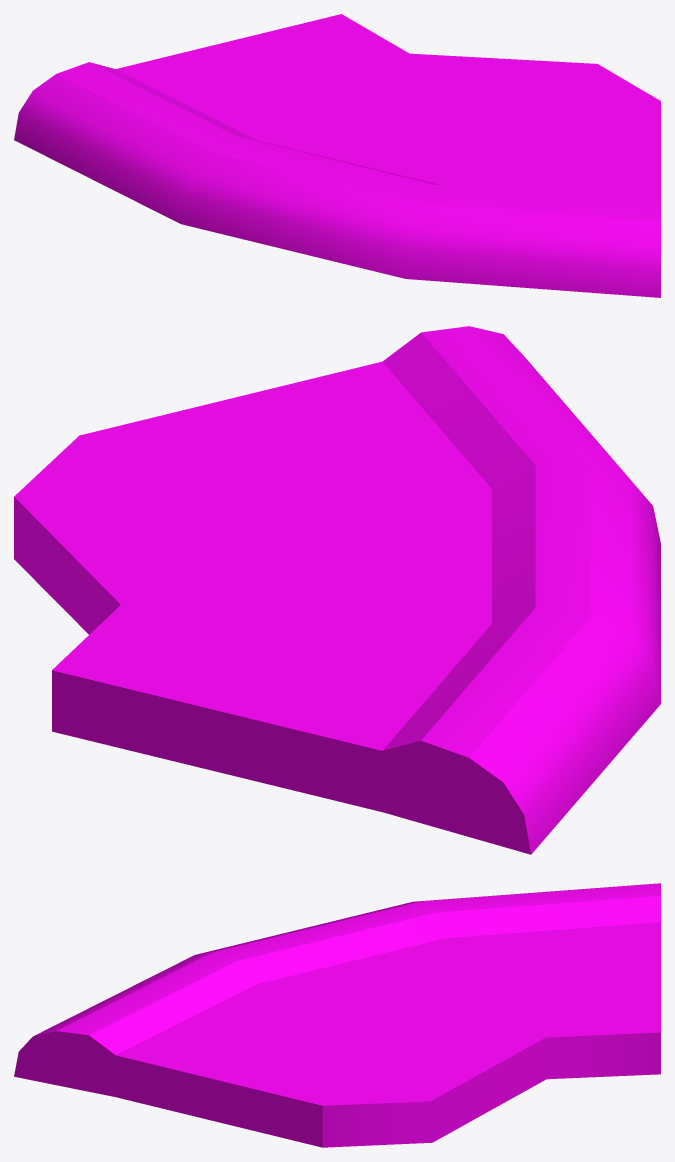
The model's file is umgebung_pizza_abgebissen_low.FBX.
The picture shows the model from 3 angles, top to bottom: view 1: azimuth 30°, elevation 25°; view 2: azimuth 150°, elevation 25°; view 3: azimuth 270°, elevation 25°; orthographic projection. The views are drawn at different scales.
Parts seen in each view (by area): view 1: o_pizza_stueck_abgebissen_low; view 2: o_pizza_stueck_abgebissen_low; view 3: o_pizza_stueck_abgebissen_low.
Boxes of the visible parts, left/top/right/bottom form: o_pizza_stueck_abgebissen_low: left=14, top=14, right=660, bottom=297; o_pizza_stueck_abgebissen_low: left=14, top=326, right=660, bottom=854; o_pizza_stueck_abgebissen_low: left=14, top=883, right=660, bottom=1147.
Size of the model in its own units: 18.11 by 21.24 by 2.16.
